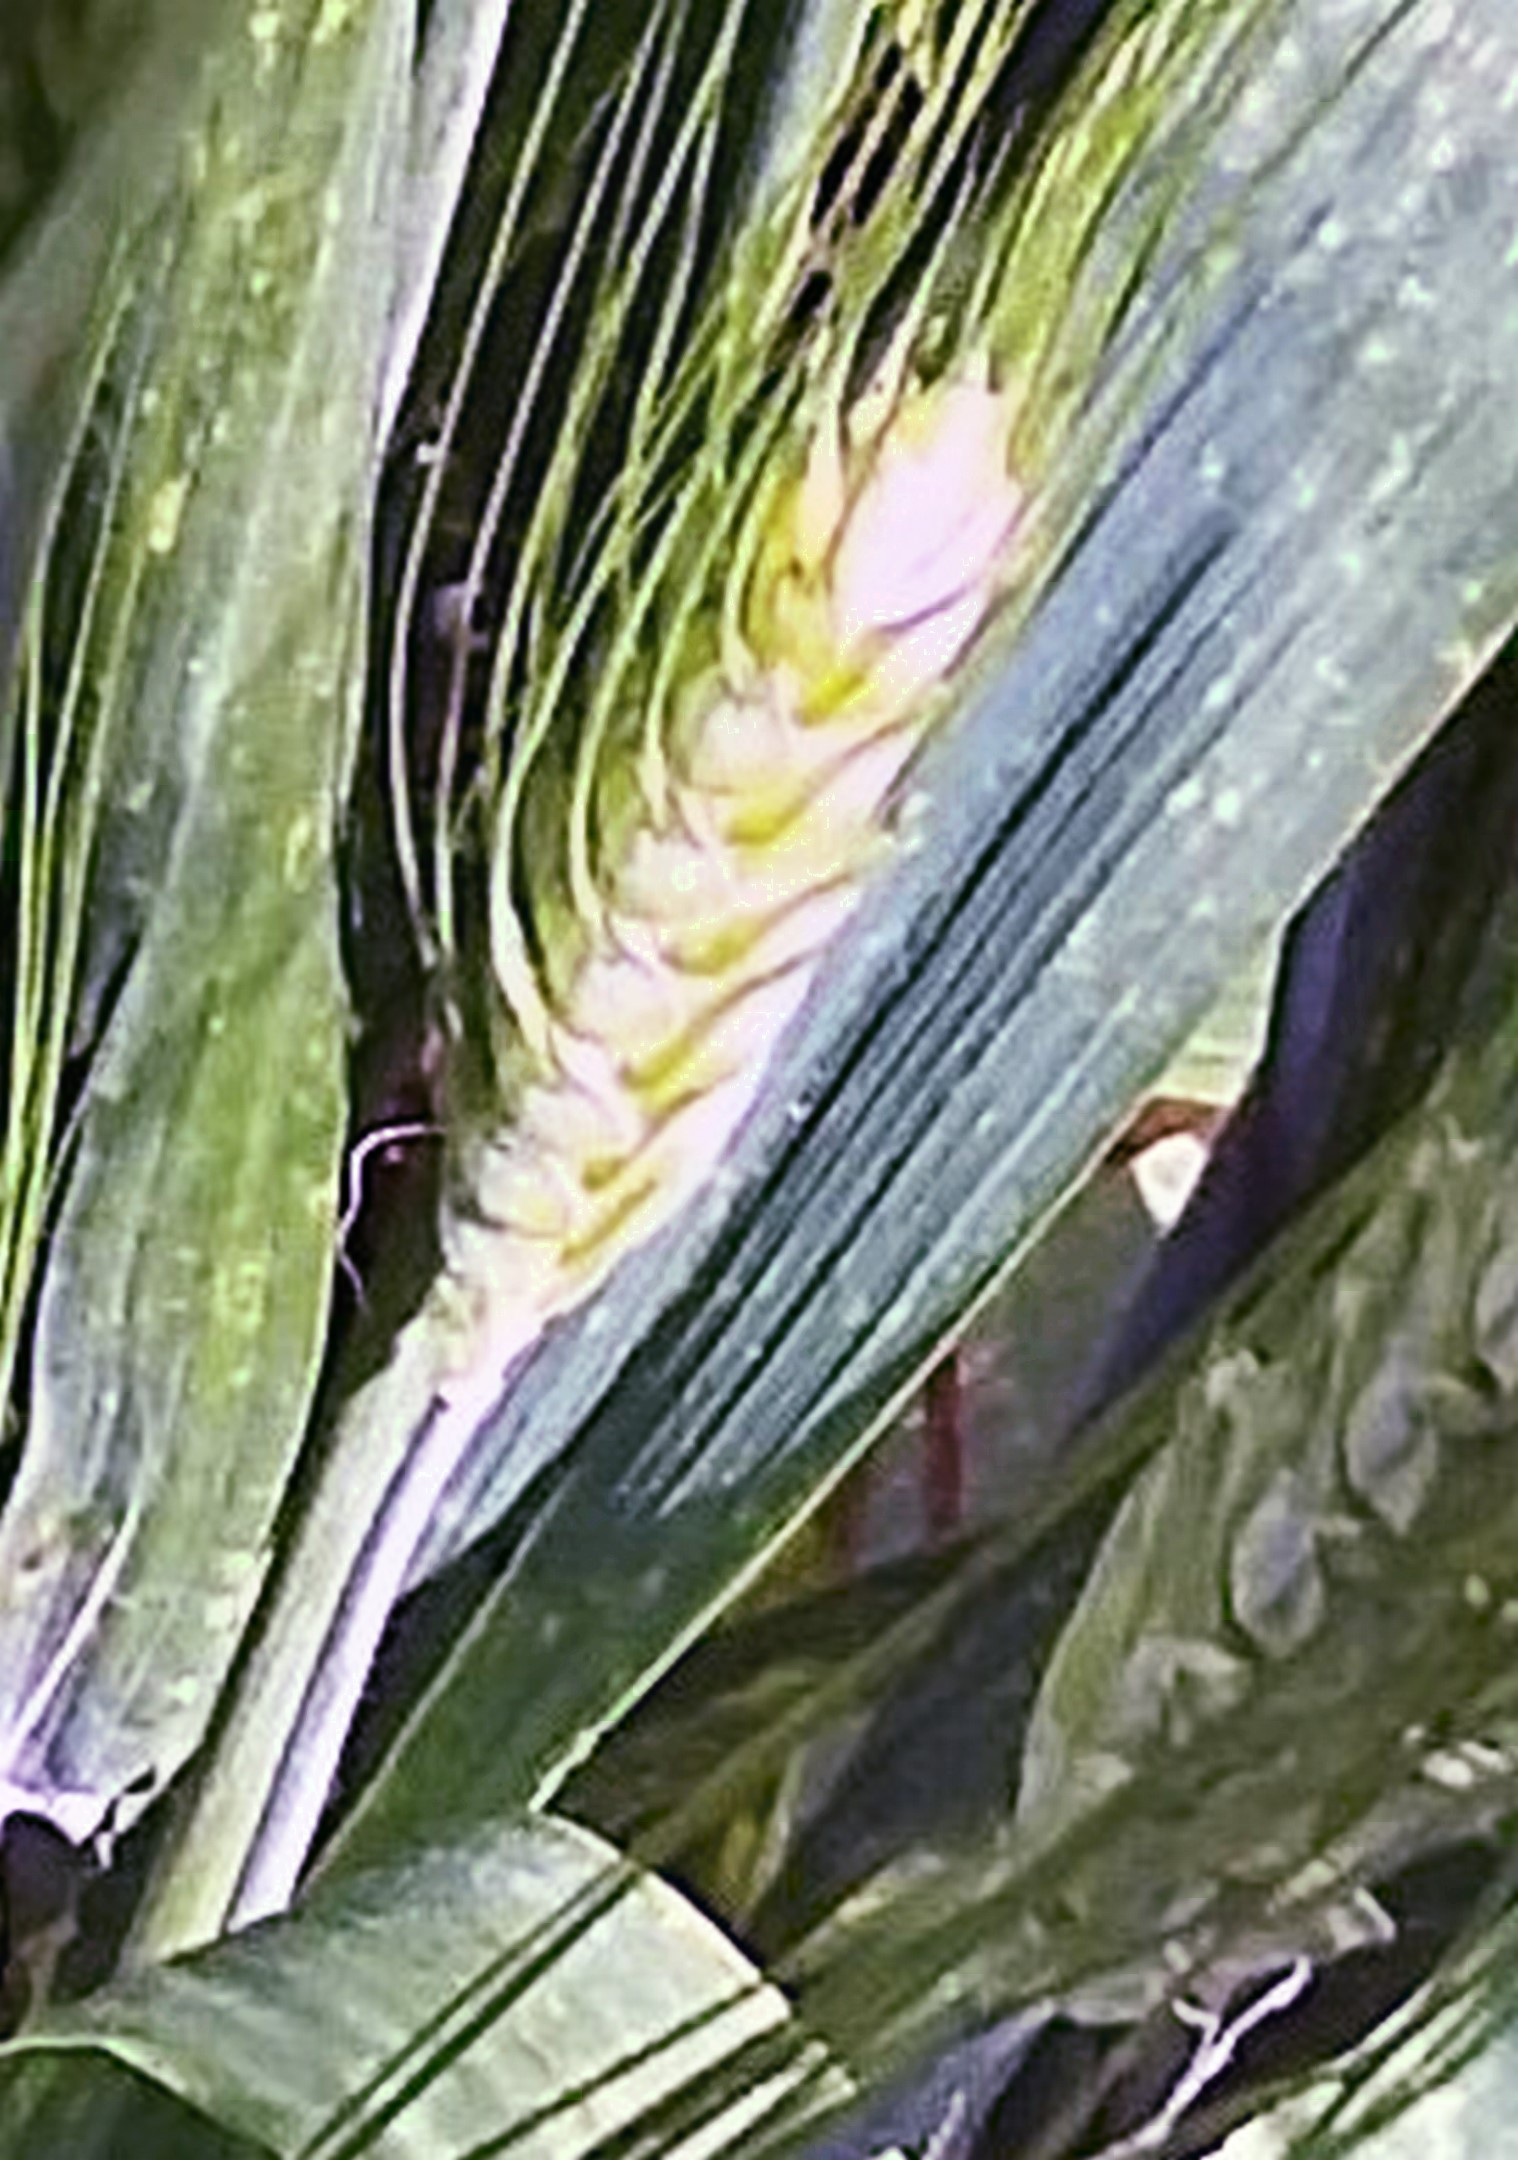Healthy Wheat: (407, 309, 1058, 1401)
